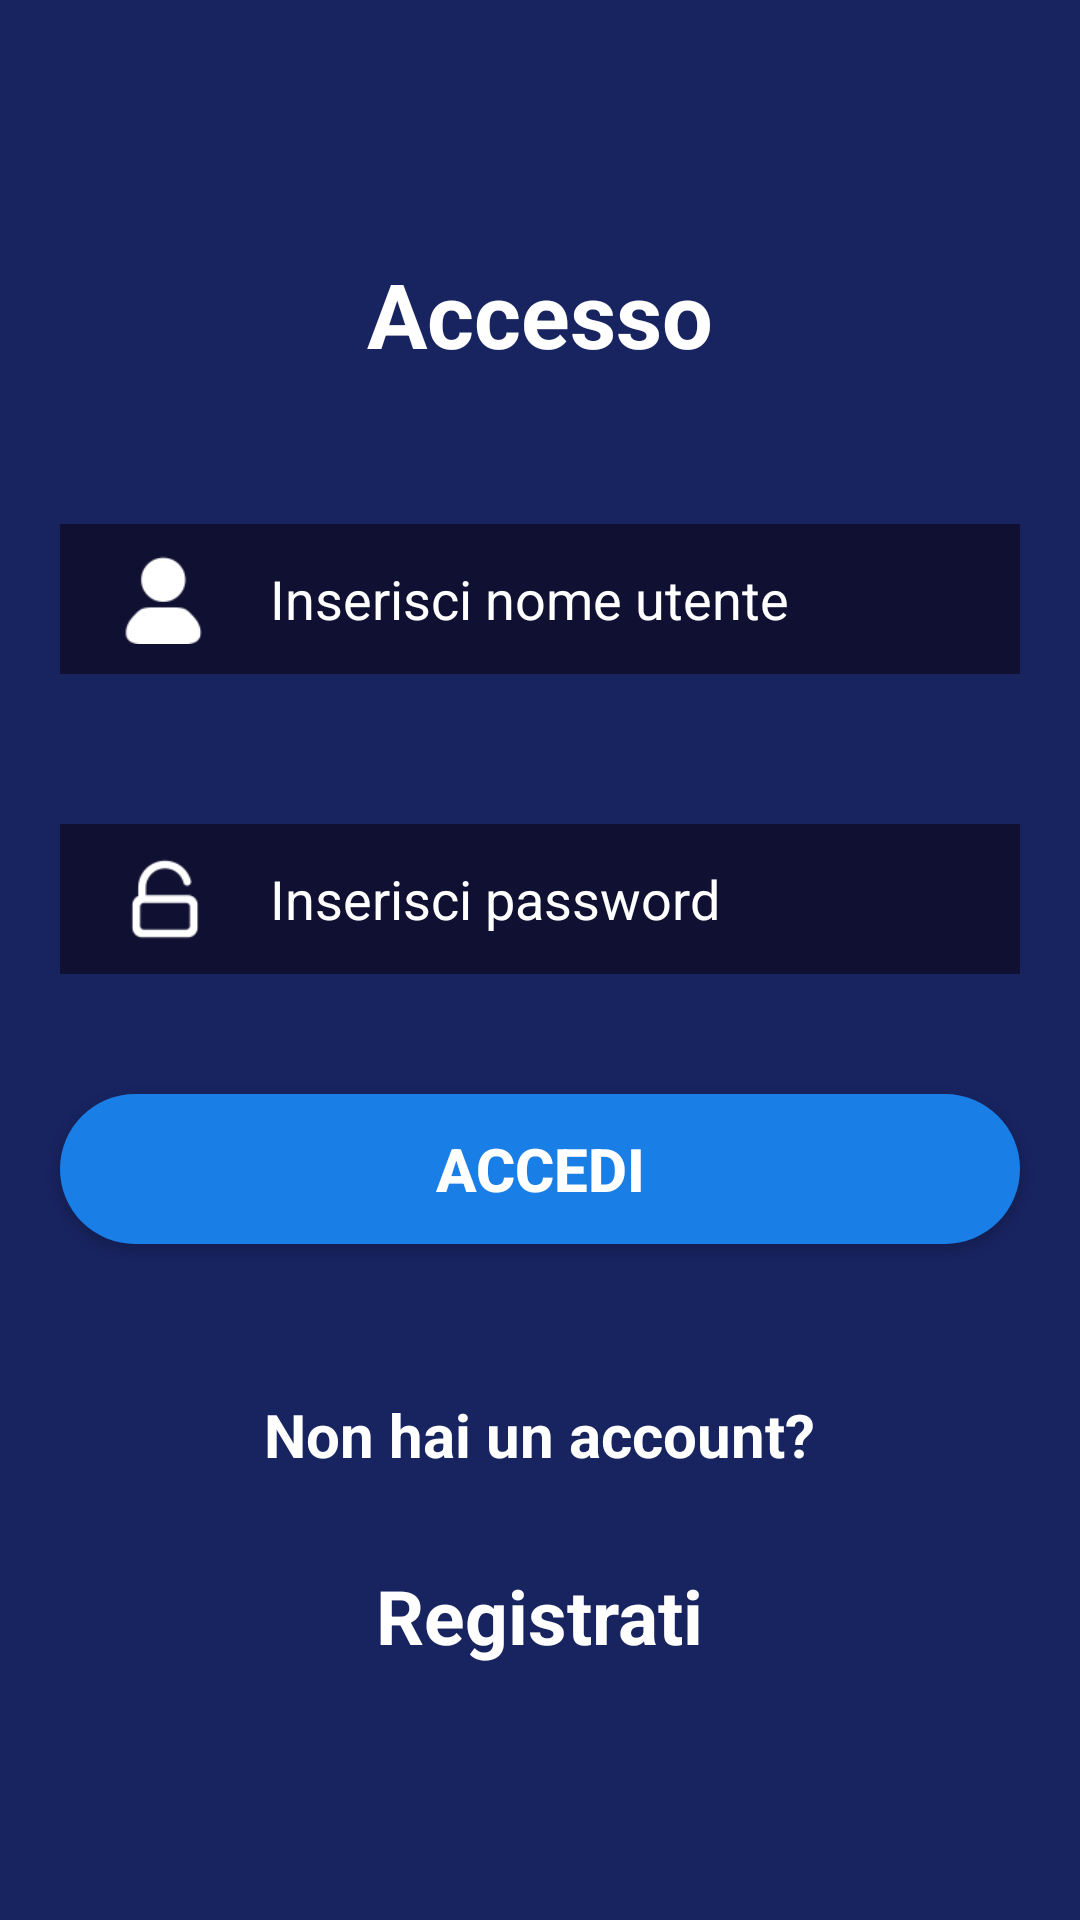

Icon bounding boxes for this 1080px×1920px phone screenshot, format (x1, y1, x2, y2):
username: (125, 557, 202, 644)
